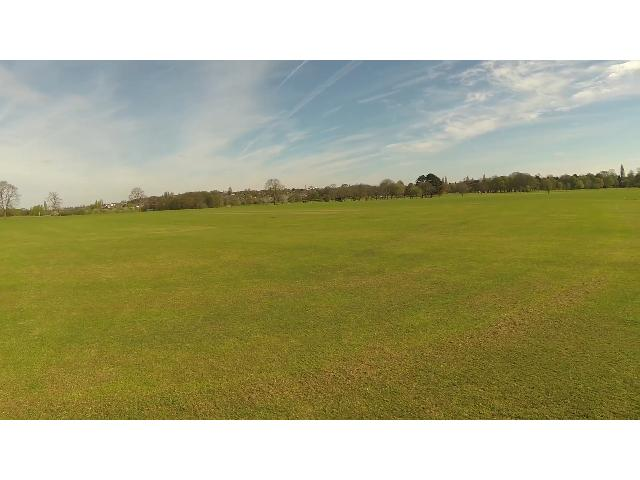Anti-Drone: (302, 185, 322, 193)
